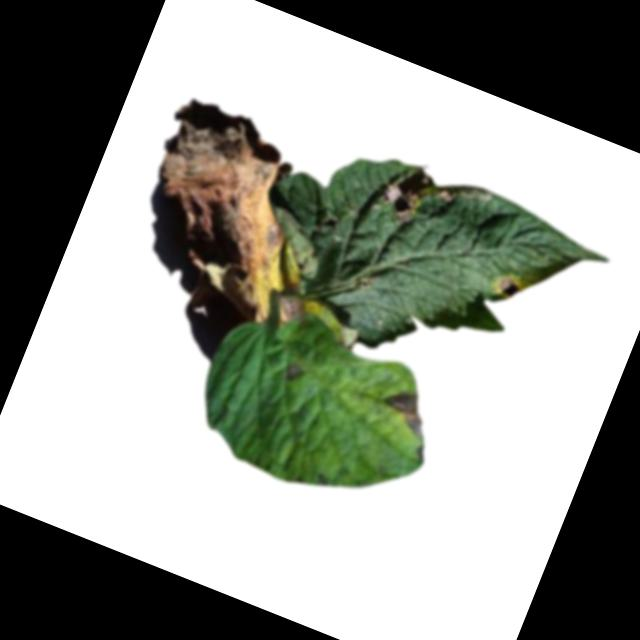Early_blight: (110, 89, 362, 335), (375, 158, 442, 231), (369, 379, 437, 441), (489, 270, 523, 303), (280, 361, 303, 386)
